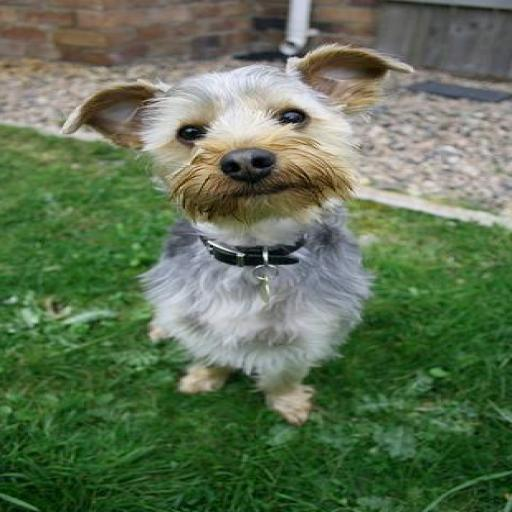dog_face: (70, 48, 406, 241)
